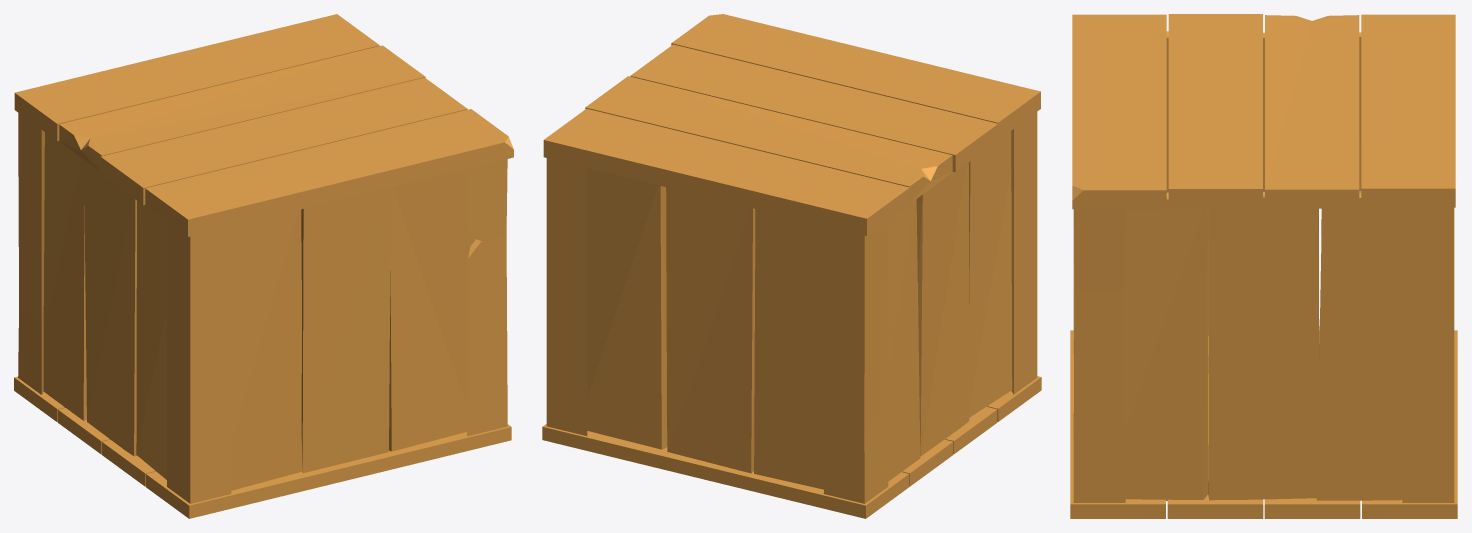
Rendered from crate.01.fbx.
The picture shows the model from 3 angles, left to right: view 1: azimuth 30°, elevation 25°; view 2: azimuth 150°, elevation 25°; view 3: azimuth 270°, elevation 25°; orthographic projection. The views are drawn at different scales.
Parts seen in each view (by area): view 1: crate.01; view 2: crate.01; view 3: crate.01.
Part boxes in pixels (box(x1,y1,x2,y2)): crate.01: box(14, 14, 513, 518); crate.01: box(542, 14, 1041, 518); crate.01: box(1070, 14, 1457, 518).
Bounding box in the file's own units: 0.7148 × 0.6242 × 0.6635.
